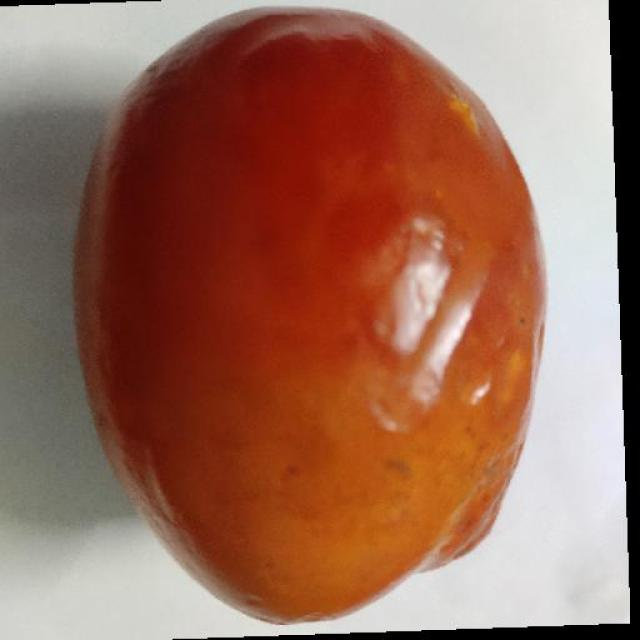Stale_tomato: (81, 25, 538, 592)
